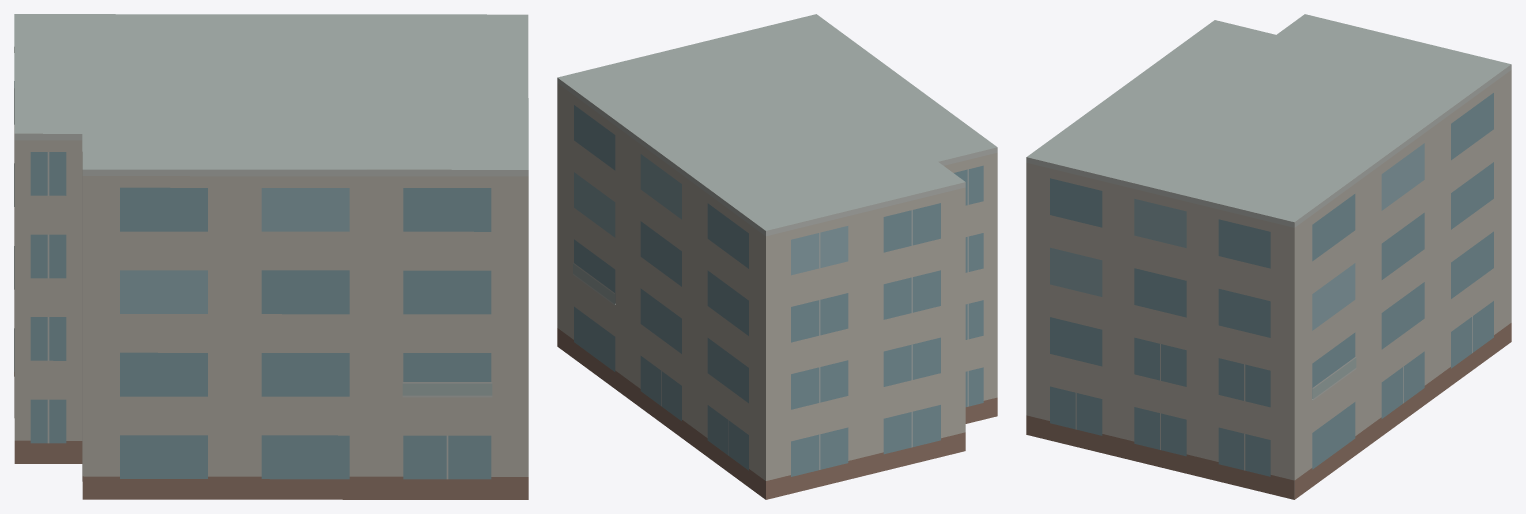
The model's file is survey-upis-32949061.glb.
The picture shows the model from 3 angles, left to right: view 1: azimuth 30°, elevation 25°; view 2: azimuth 150°, elevation 25°; view 3: azimuth 270°, elevation 25°; orthographic projection. The views are drawn at different scales.
Parts seen in each view (by area): view 1: survey-upis-32949061.tmp; view 2: survey-upis-32949061.tmp; view 3: survey-upis-32949061.tmp.
Boxes of the visible parts, x1,y1,x2,y2 form: survey-upis-32949061.tmp: [14, 14, 528, 499]; survey-upis-32949061.tmp: [557, 14, 997, 499]; survey-upis-32949061.tmp: [1026, 14, 1511, 499].
Bounding box in the file's own units: 19.64 × 12.2 × 19.33.
